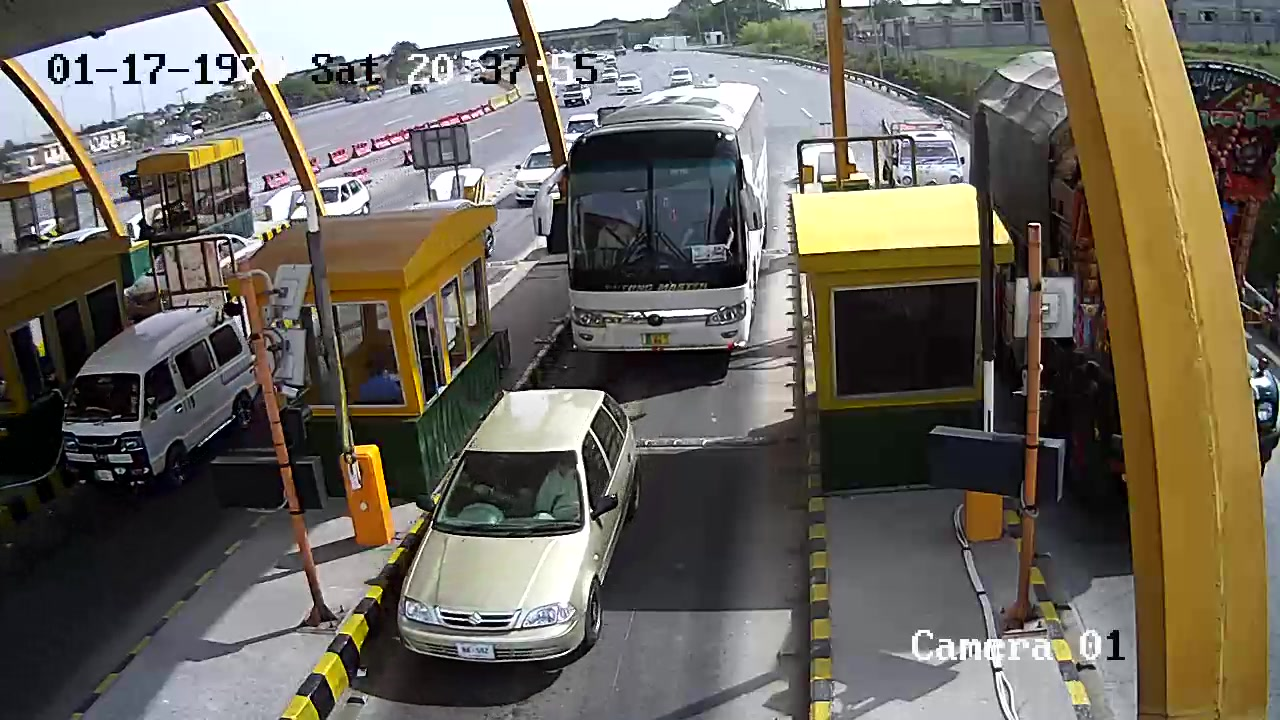F4: (532, 61, 778, 374)
